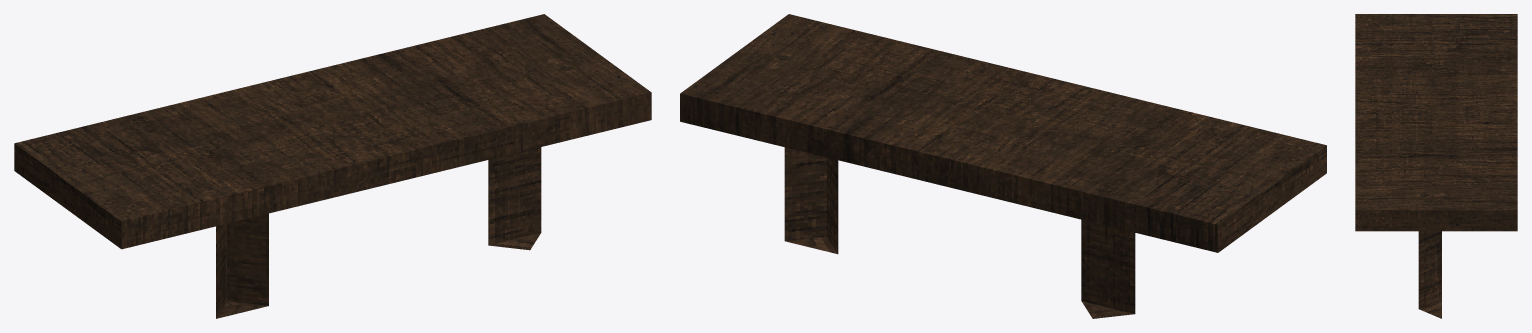
The model's file is shower_bench.glb.
3 renders of one model, left to right at view 1: azimuth 30°, elevation 25°; view 2: azimuth 150°, elevation 25°; view 3: azimuth 270°, elevation 25°, orthographic. The views are drawn at different scales.
Parts seen in each view (by area): view 1: Bench; view 2: Bench; view 3: Bench.
Part boxes in pixels (left/top/right/bottom): Bench: left=14, top=14, right=651, bottom=318; Bench: left=680, top=14, right=1326, bottom=318; Bench: left=1355, top=14, right=1517, bottom=318.
Size of what is drawn, in the model's own units: 2 by 0.6099 by 0.7.
Materials: 1 (1 with a texture image).
